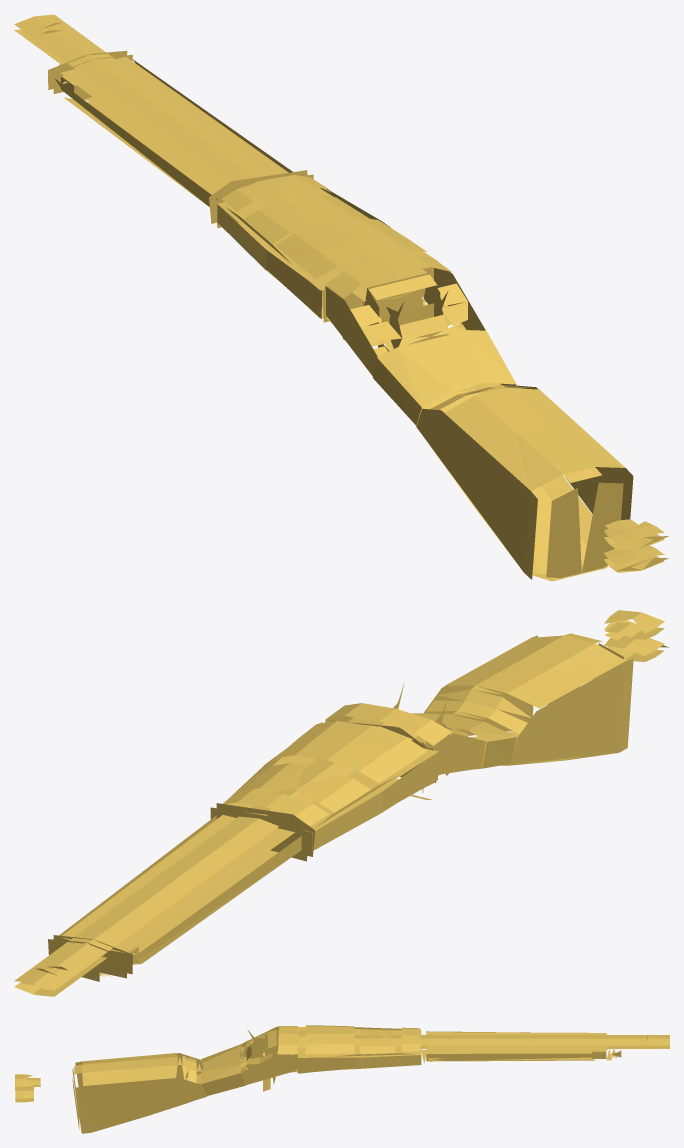
Rendered from charm_mst_sniper_5.glb.
3 views of the same model, one above another, from view 1: azimuth 30°, elevation 25°; view 2: azimuth 150°, elevation 25°; view 3: azimuth 270°, elevation 25° (orthographic). The views are drawn at different scales.
Visible parts, largest first — view 1: p0_paint; view 2: p0_paint; view 3: p0_paint.
Boxes of the visible parts, x1,y1,x2,y2 form: p0_paint: [14, 14, 668, 581]; p0_paint: [14, 610, 669, 996]; p0_paint: [15, 1025, 669, 1133].
Bounding box in the file's own units: 0.1439 × 0.1917 × 1.25.
